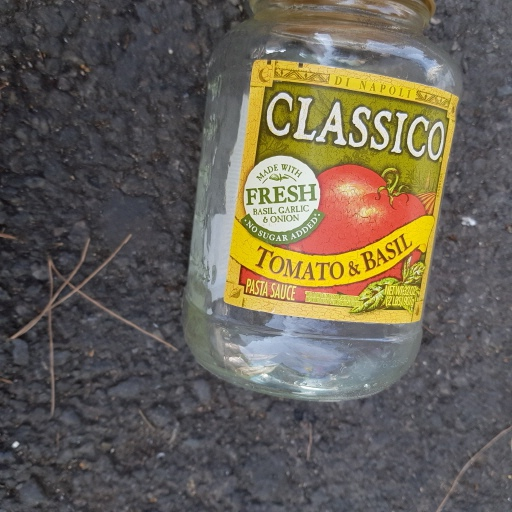Glass_5: (175, 3, 462, 398)
